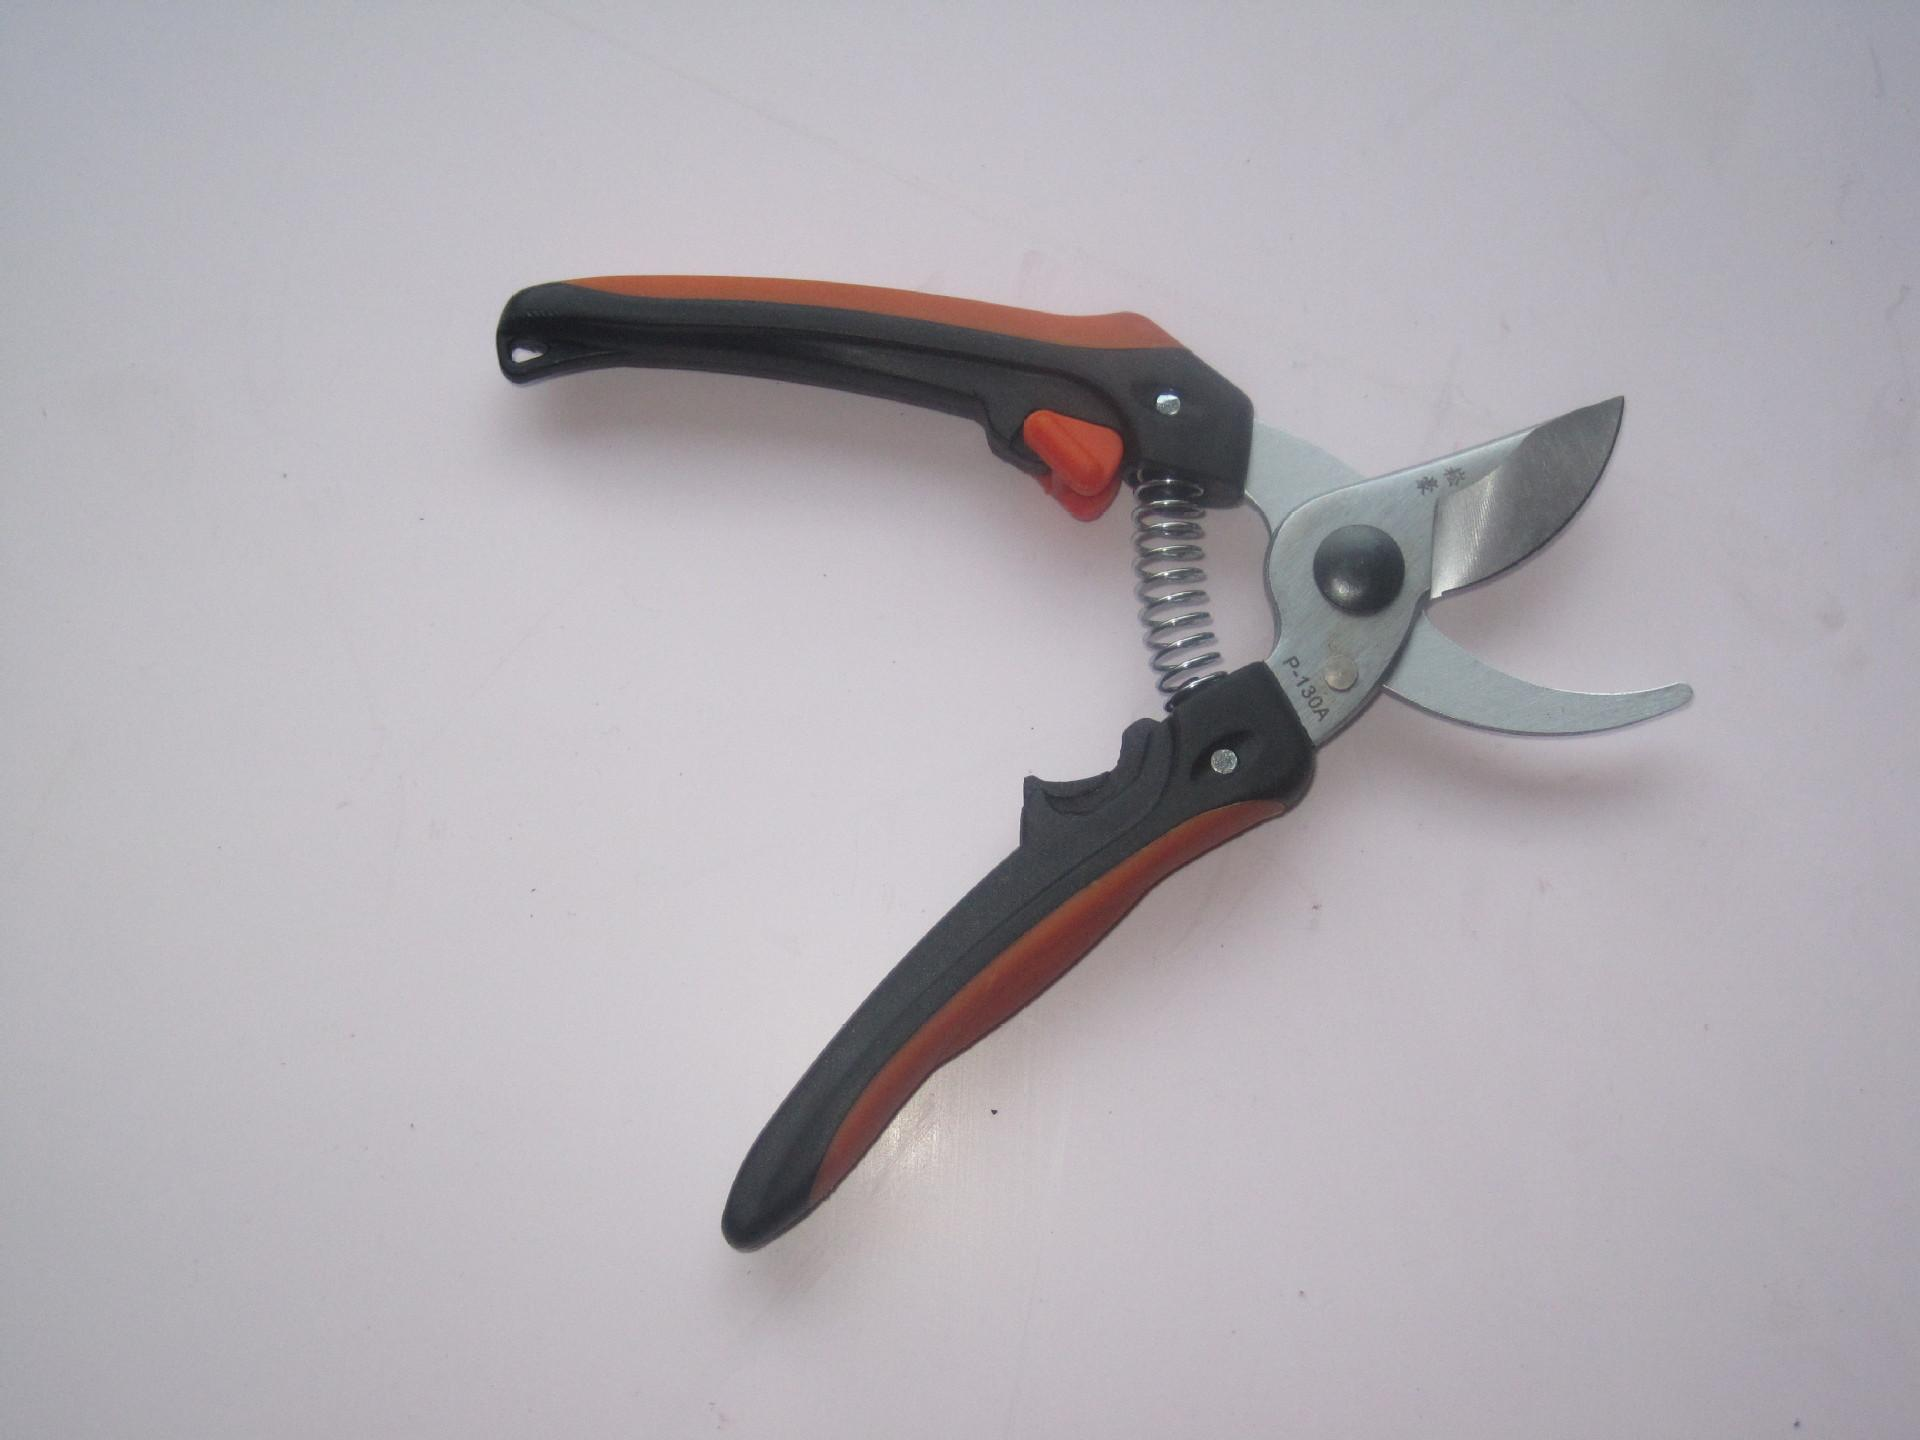scissor: (469, 132, 1707, 1266)
